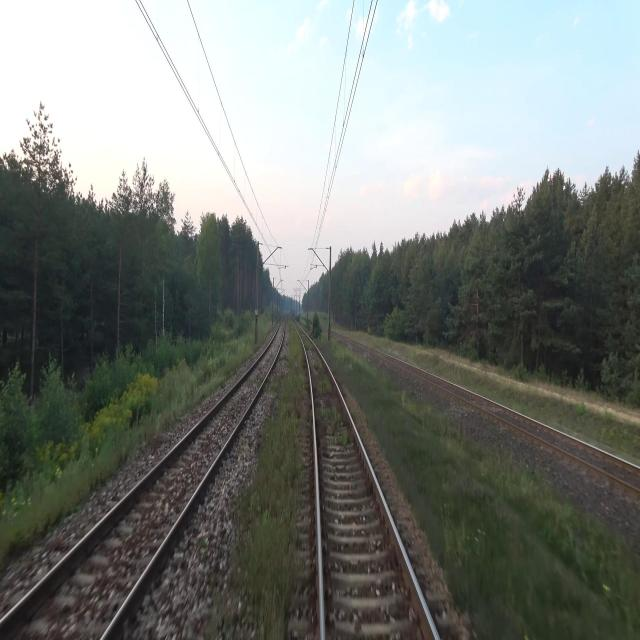rail-track: (0, 318, 283, 639), (296, 324, 435, 639), (406, 366, 640, 486)
